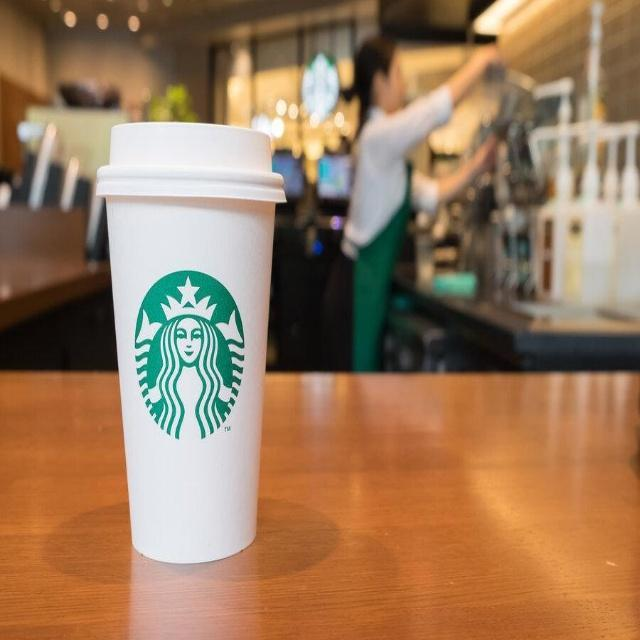paper_cup: (94, 117, 286, 568)
